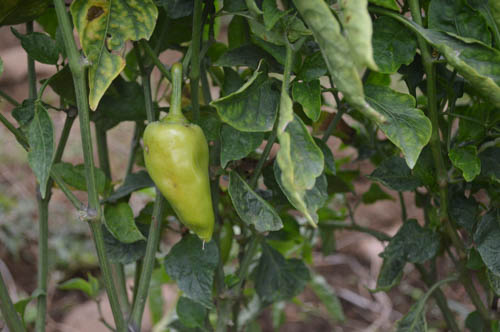ChiliPepper: (143, 123, 216, 242)
